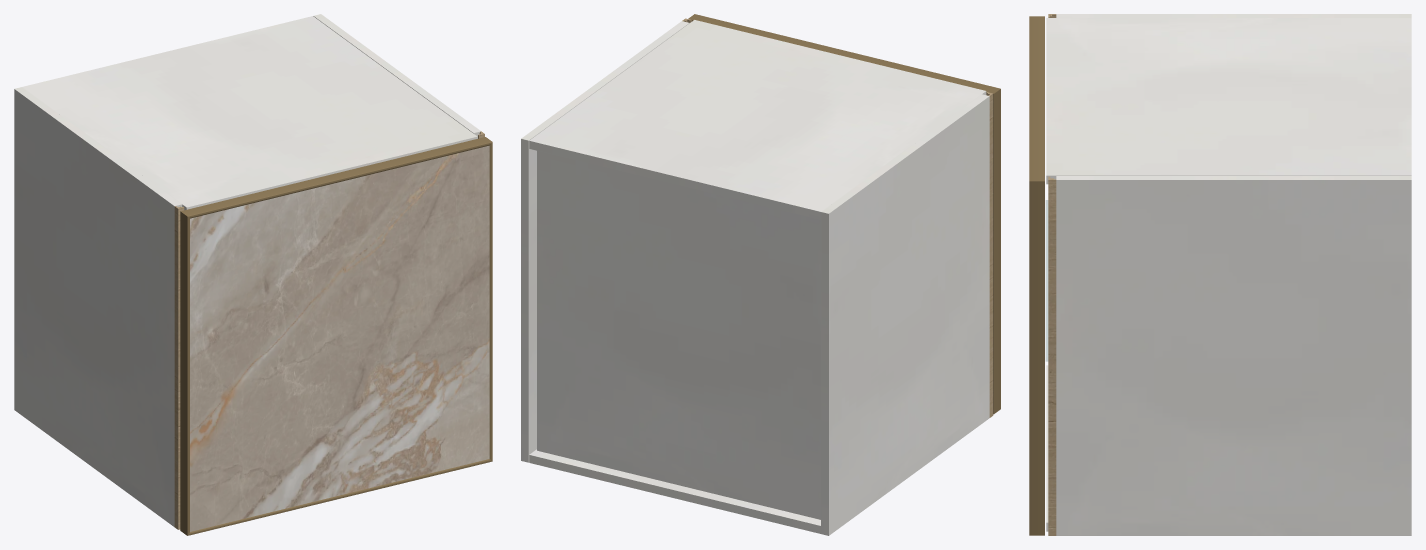
The model's file is LOF-SH-NHX-ST-1SX-RHS-XXX-600-600-560-15.glb.
3 views of the same model, side by side, from view 1: azimuth 30°, elevation 25°; view 2: azimuth 150°, elevation 25°; view 3: azimuth 270°, elevation 25° (orthographic). The views are drawn at different scales.
Visible parts, largest first — view 1: Object_node_4, TP_node_0, TP, Extrusion_node_1, Extrusion, Object_node_6, TP_node_1, Extrusion_node, Extrusion_node_0; view 2: TP_node_2, TP_node_0, TP, TP_node_1, TP_node, Extrusion_node_1, Extrusion, Object_node_6; view 3: TP_node_1, TP, Extrusion_node, Object_node_12, Extrusion, TP_node_0, TP_node.
Boxes of the visible parts, x1,y1,x2,y2 form: Object_node_4: (190, 145, 489, 531); TP_node_0: (14, 87, 182, 526); TP: (22, 16, 477, 210); Extrusion_node_1: (180, 211, 189, 535); Extrusion: (181, 137, 492, 218); Object_node_6: (174, 206, 184, 529); TP_node_1: (313, 14, 480, 138); Extrusion_node: (489, 143, 492, 460); Extrusion_node_0: (188, 459, 492, 535); TP_node_2: (537, 151, 820, 519); TP_node_0: (821, 94, 989, 535); TP: (529, 20, 986, 219); TP_node_1: (521, 21, 689, 462); TP_node: (529, 449, 820, 533); Extrusion_node_1: (993, 89, 1000, 413); Extrusion: (688, 14, 1000, 93); Object_node_6: (986, 92, 993, 417); TP_node_1: (1056, 176, 1411, 535); TP: (1046, 18, 1411, 184); Extrusion_node: (1029, 181, 1044, 535); Object_node_12: (1048, 176, 1056, 535); Extrusion: (1029, 16, 1044, 181); TP_node_0: (1056, 14, 1411, 17); TP_node: (1046, 365, 1048, 531).
Size of what is drawn, in the model's own units: 0.6 by 0.6 by 0.5842.
7 materials, 3 textured.
